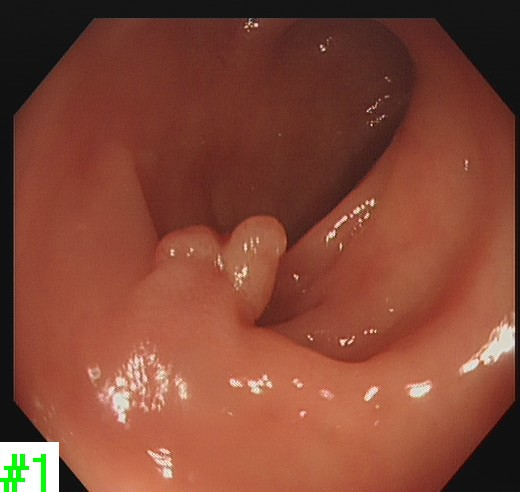adenoma: (135, 212, 288, 338)
